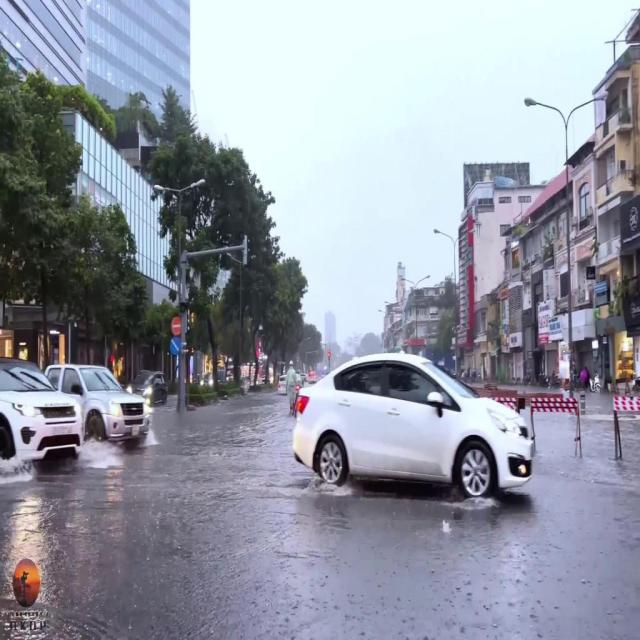cam_xe_di_nguoc_chieu: (171, 316, 182, 336)
huong_phai_di_vuot_chuong_ngai_vat_phai: (170, 336, 181, 355)
